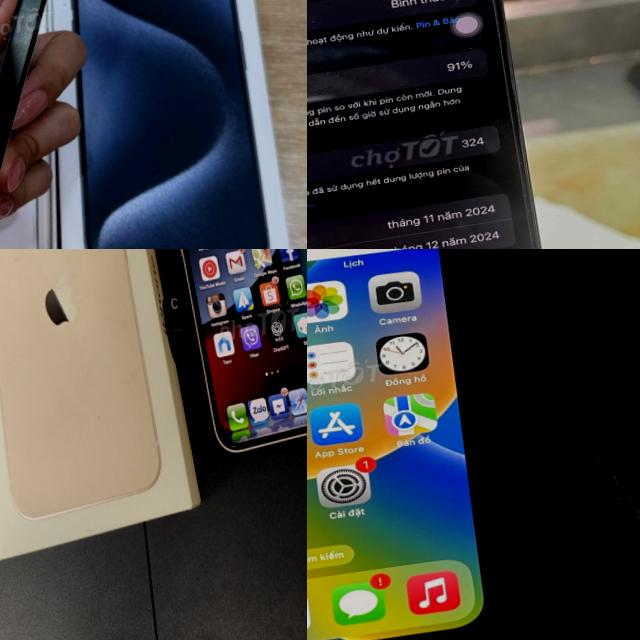scratch: (4, 3, 48, 54)
